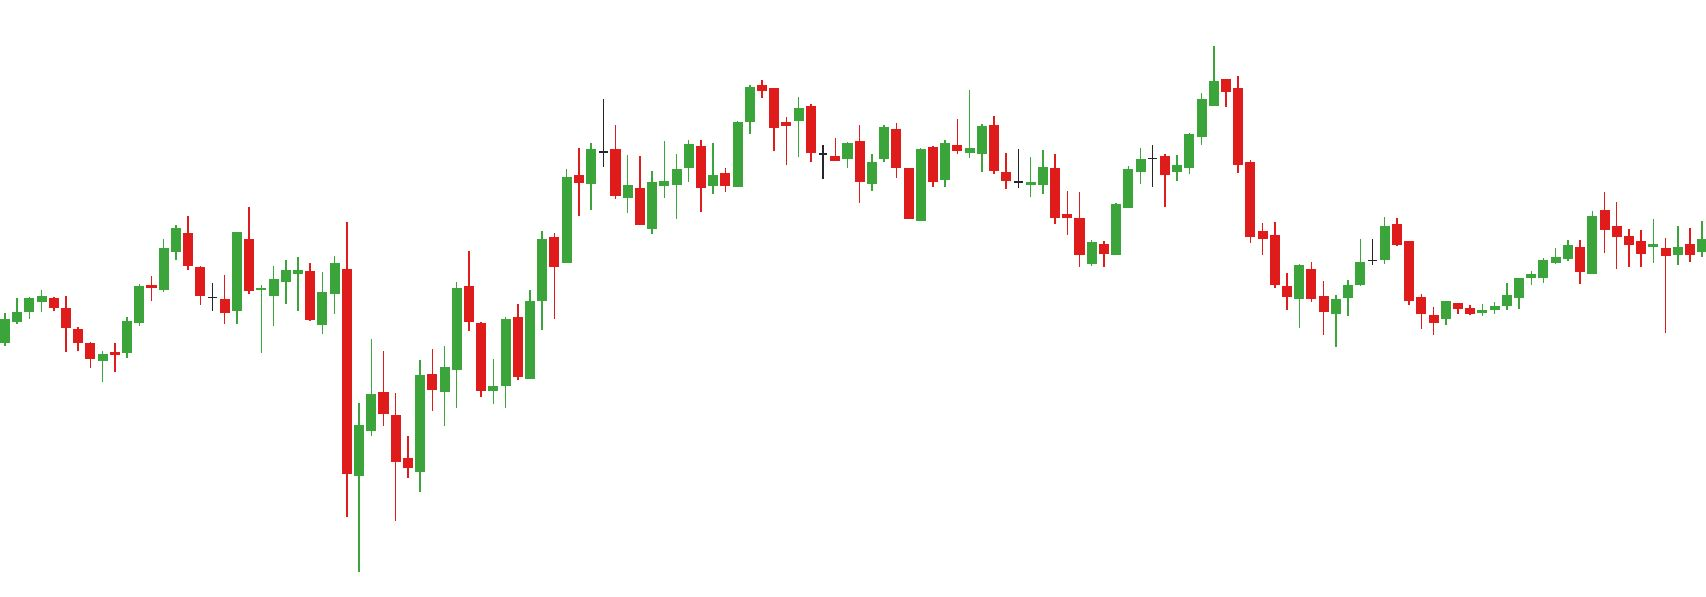sell: (597, 79, 782, 167), (877, 89, 974, 177), (181, 204, 256, 290)
